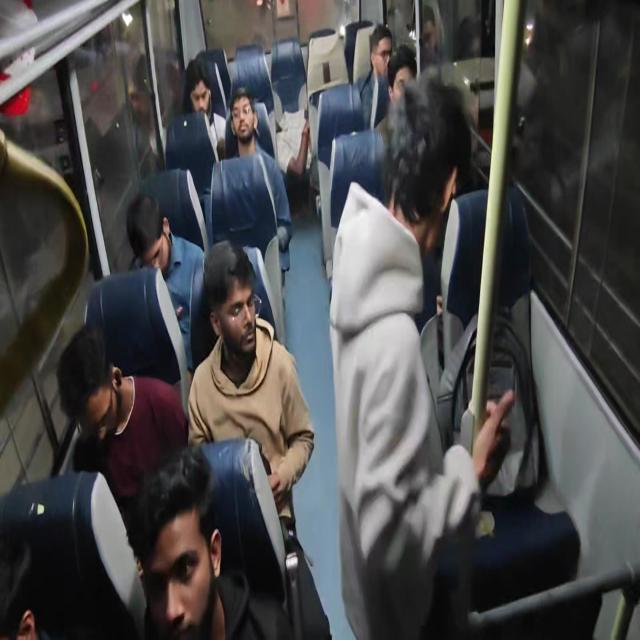person: (328, 72, 516, 637), (130, 440, 330, 638), (186, 239, 315, 535), (56, 321, 188, 524), (0, 469, 147, 639), (129, 444, 227, 639), (125, 190, 208, 382), (225, 85, 292, 271), (182, 57, 226, 163), (374, 44, 418, 144), (356, 23, 393, 129), (417, 3, 443, 73), (387, 44, 417, 104)
